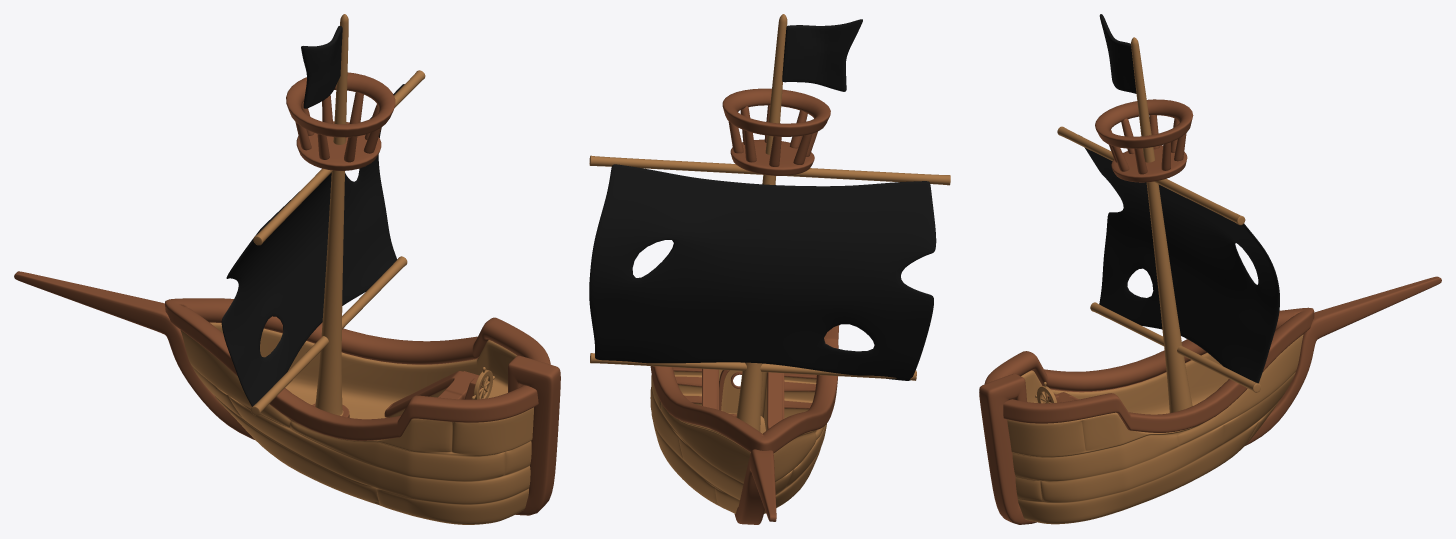
Rendered from pirate_ship (1).glb.
The picture shows the model from 3 angles, left to right: view 1: azimuth 30°, elevation 25°; view 2: azimuth 150°, elevation 25°; view 3: azimuth 270°, elevation 25°; orthographic projection. The views are drawn at different scales.
Visible parts, largest first — view 1: ship, Plane.003, Plane.002, mat, Circle.009, Plane.008, Circle.010, Circle.007, Circle.008, Plane; view 2: Plane.003, ship, Plane.008, Circle.009, Circle.008, mat, Plane.002, step, Plane, Circle.007, Circle.010, porte (+2 smaller); view 3: ship, Plane.003, Plane.002, mat, Circle.009, Circle.010, Circle.008, Plane.008, Circle.007.
Part boxes in pixels (<box>): ship: <box>165,298,550,524</box>; Plane.003: <box>221,84,404,406</box>; Plane.002: <box>14,271,560,515</box>; mat: <box>312,14,349,417</box>; Circle.009: <box>286,72,395,137</box>; Plane.008: <box>301,26,342,108</box>; Circle.010: <box>251,256,407,415</box>; Circle.007: <box>296,121,381,170</box>; Circle.008: <box>253,70,425,245</box>; Plane: <box>384,371,477,417</box>; Plane.003: <box>589,164,936,380</box>; ship: <box>650,325,839,513</box>; Plane.008: <box>782,19,862,91</box>; Circle.009: <box>722,88,830,136</box>; Circle.008: <box>589,155,950,185</box>; mat: <box>736,14,787,431</box>; Plane.002: <box>734,449,776,524</box>; step: <box>673,367,816,418</box>; Plane: <box>702,368,784,430</box>; Circle.007: <box>730,139,814,175</box>; Circle.010: <box>590,353,916,380</box>; porte: <box>719,370,742,417</box>; ship: <box>984,307,1314,524</box>; Plane.003: <box>1079,135,1279,383</box>; Plane.002: <box>979,276,1441,524</box>; mat: <box>1131,37,1192,412</box>; Circle.009: <box>1095,99,1193,148</box>; Circle.010: <box>1090,302,1260,392</box>; Circle.008: <box>1057,126,1245,225</box>; Plane.008: <box>1099,14,1136,93</box>; Circle.007: <box>1111,145,1187,182</box>.
Bounding box in the file's own units: 4.91 × 7.15 × 6.9.
